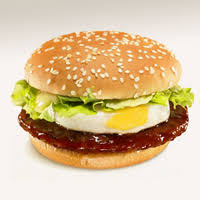hamburger: (12, 30, 196, 168)
